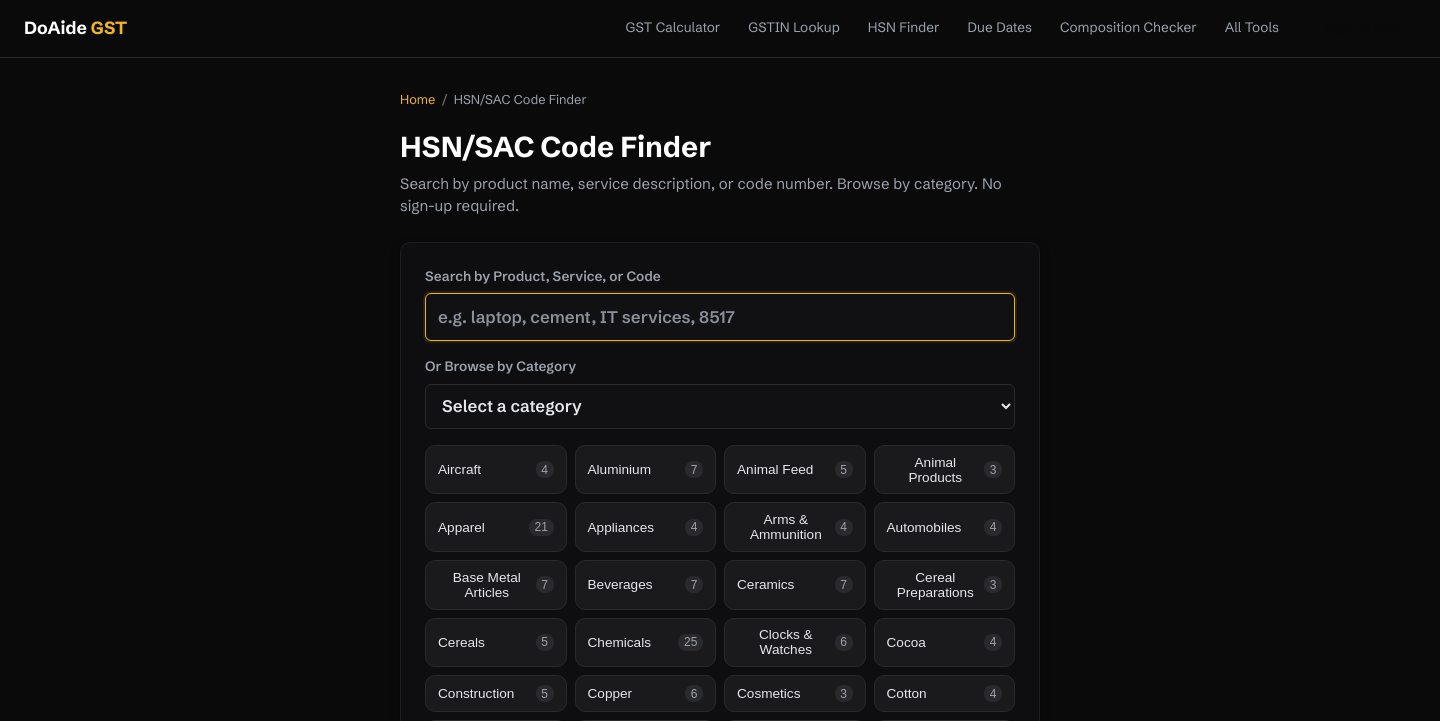
HsnSacFinderPage › shows type column distinguishing HSN and SAC
Type "construction services" into the field with placeholder "e.g. laptop, cement, IT services, 8517". click: (720, 317)
box: [425,293,1015,341]
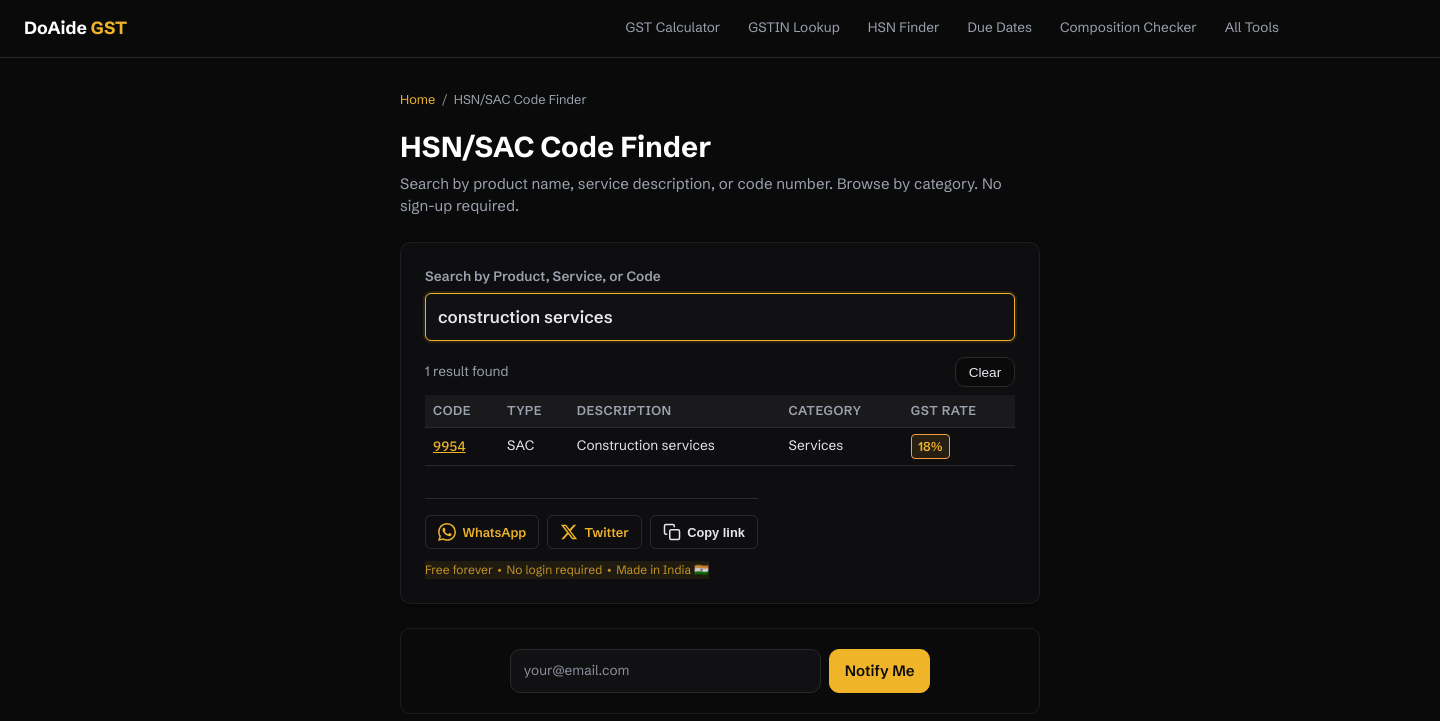
Now the text "SAC" is shown, box [499,428,569,466]
